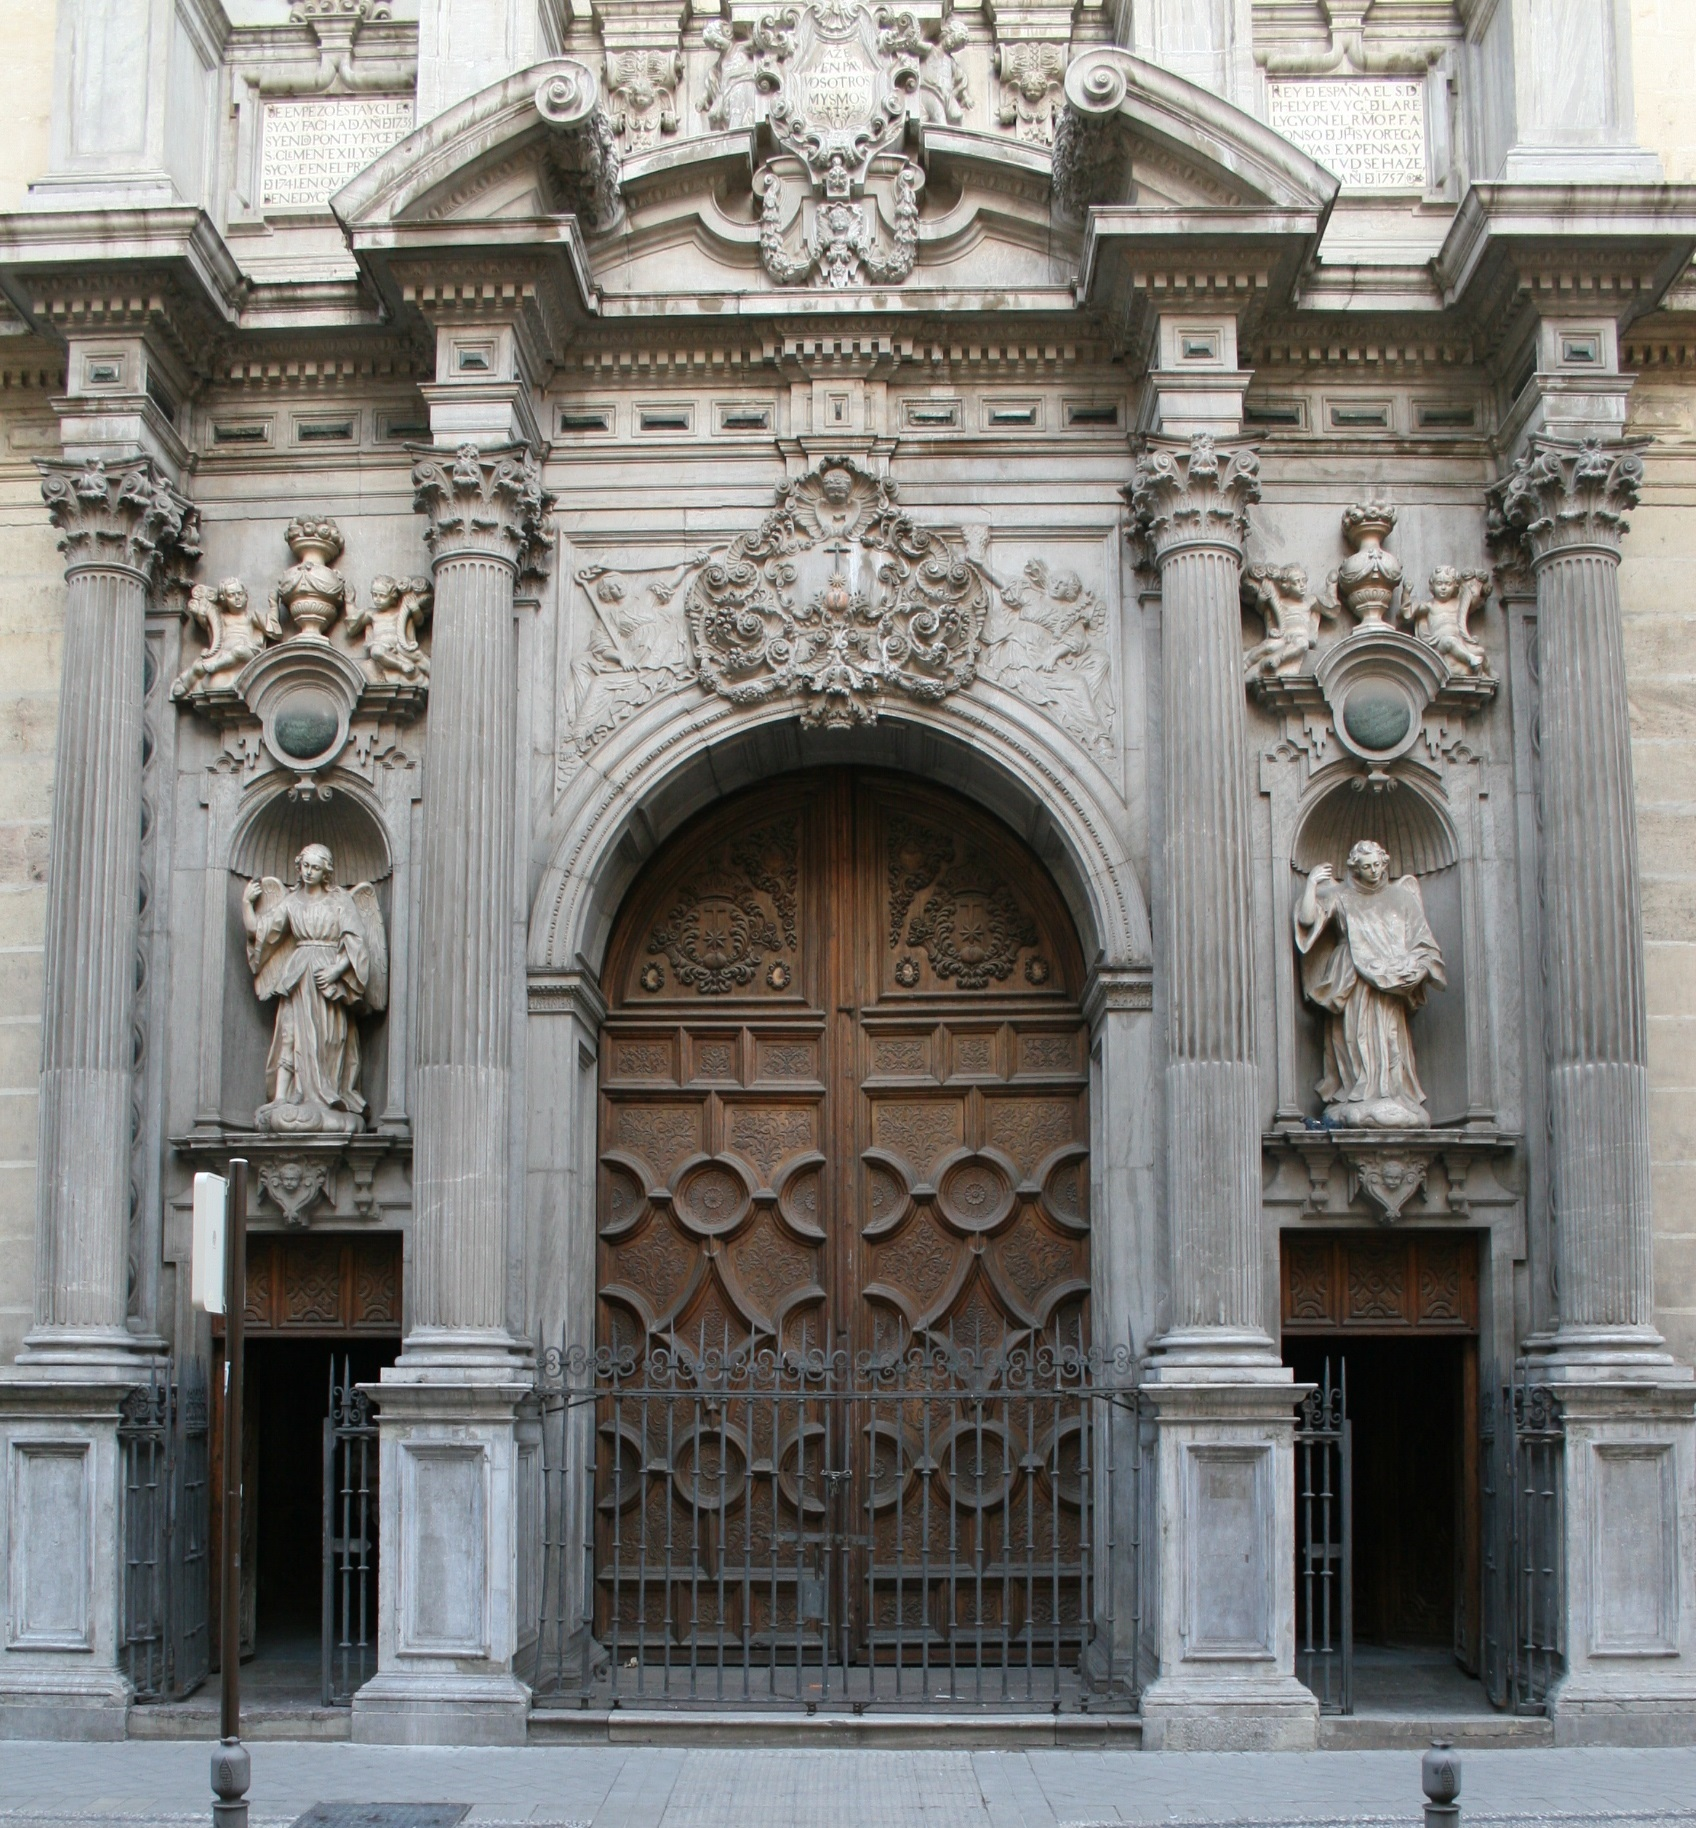arco-medio-punto: (556, 701, 1132, 1068)
fronton-partido: (311, 46, 1356, 261)
